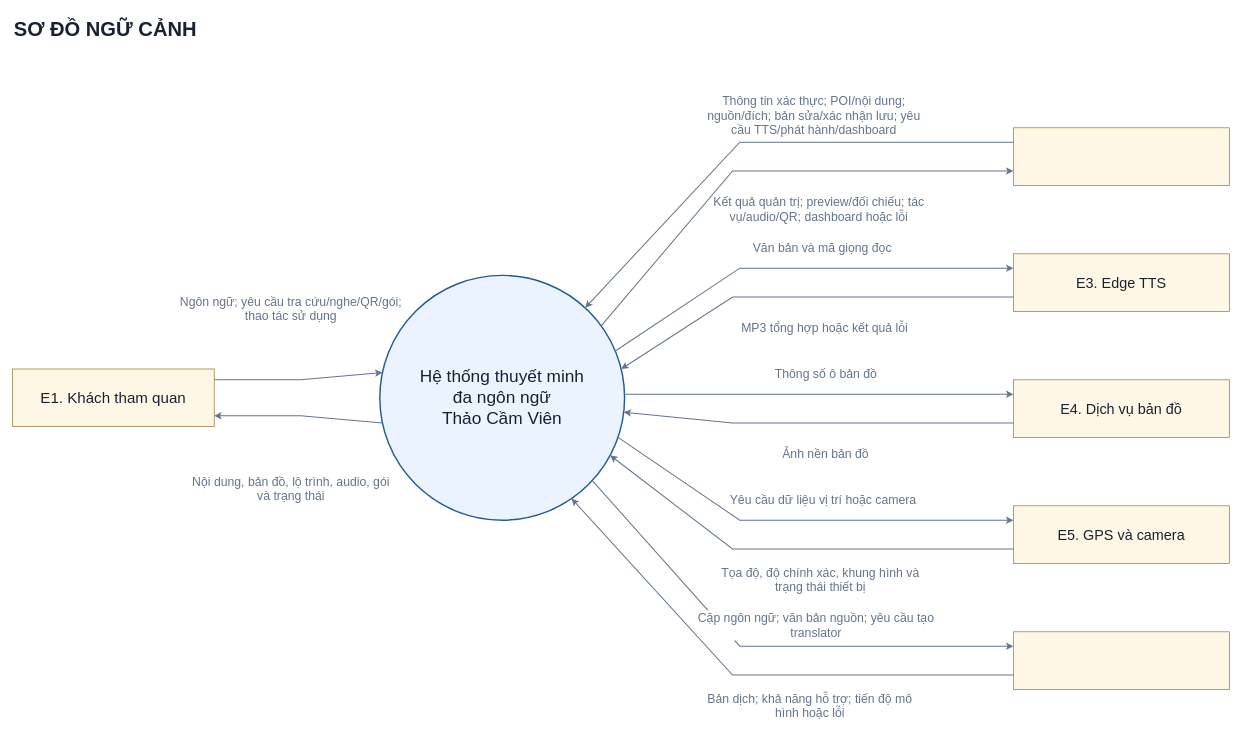
This 1249x733 diagram has some shape labels left out. Each missing label, with the centre of its shape:
"E2. Quản trị viên" goes at point (1121, 156).
"E6. Chrome Translator API Dịch tại máy admin" goes at point (1121, 660).
